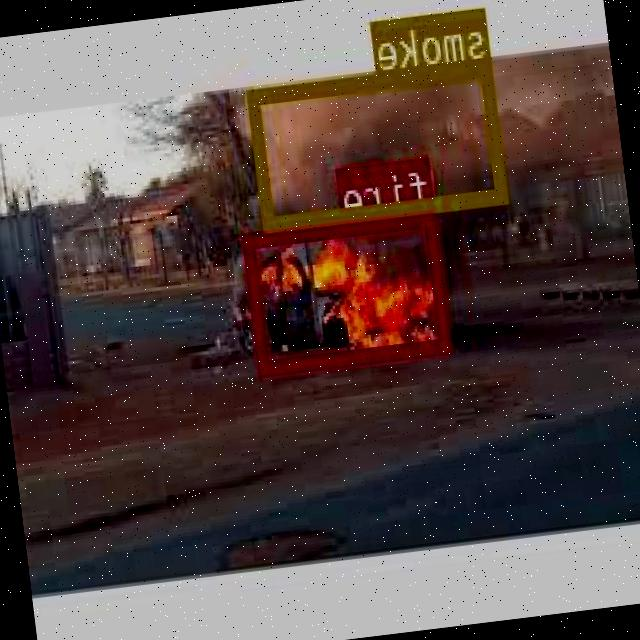fire: (245, 208, 452, 372)
smoke: (250, 58, 510, 230)
